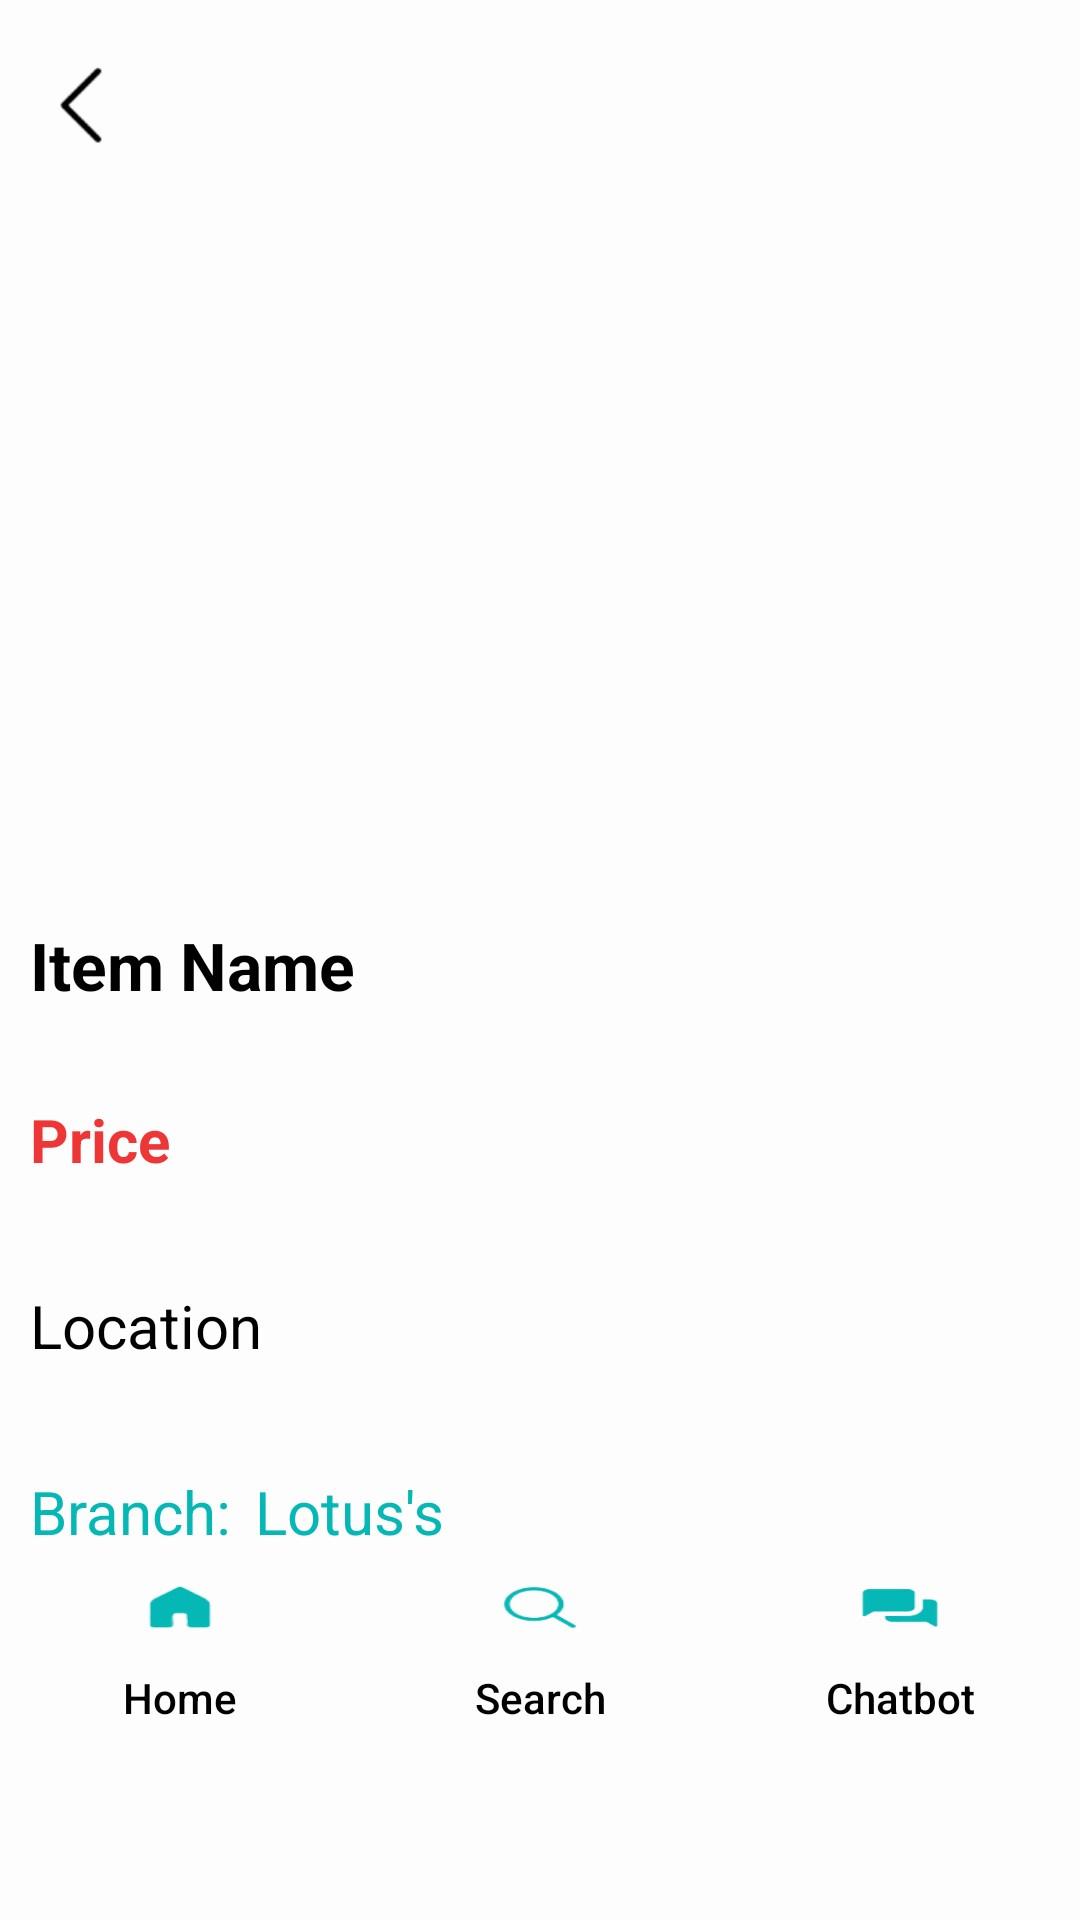

Where to tap for icons on this 1080 × 1920 app screen, as point (x, y):
Back: point (81, 105)
